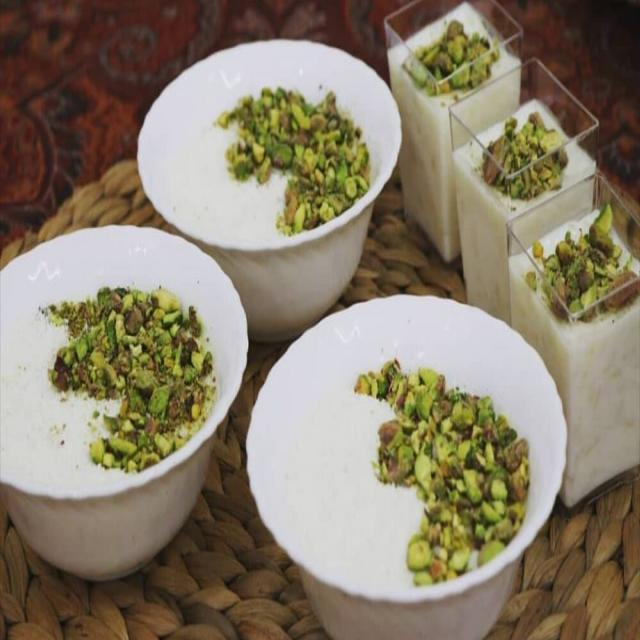roz blabn: (255, 312, 537, 624), (0, 225, 216, 553), (149, 67, 385, 287)
